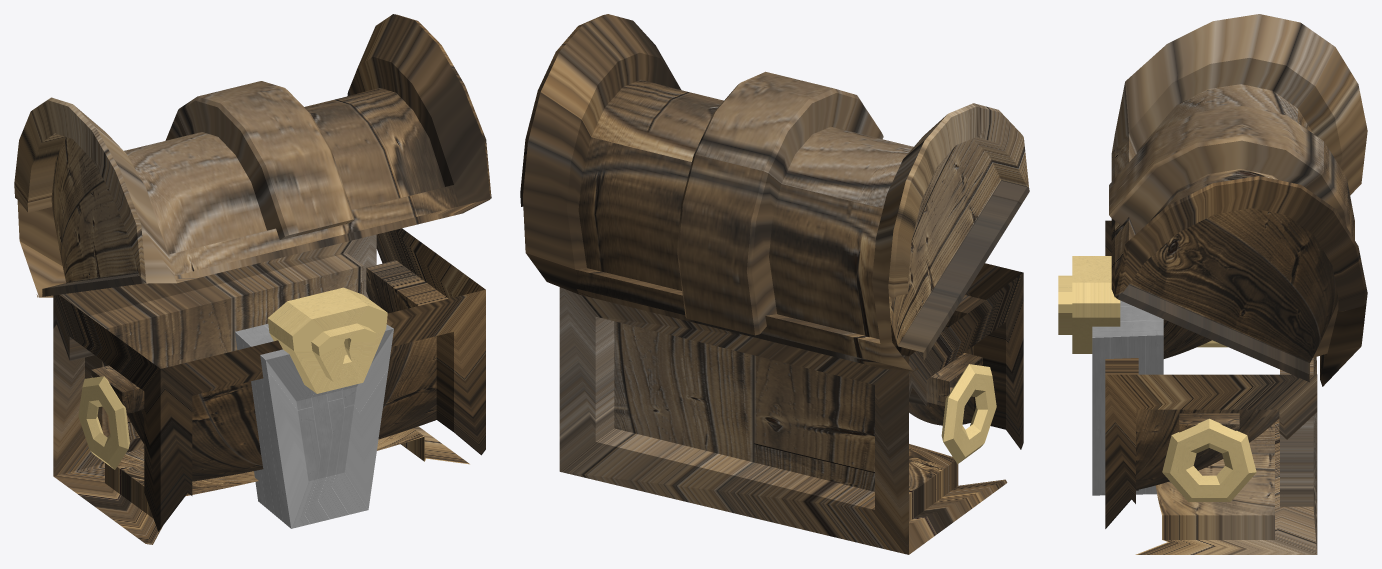
File: pirates chest.fbx
The picture shows the model from 3 angles, left to right: view 1: azimuth 30°, elevation 25°; view 2: azimuth 150°, elevation 25°; view 3: azimuth 270°, elevation 25°; orthographic projection. The views are drawn at different scales.
Parts seen in each view (by area): view 1: pCylinder1, pCube1, pCube4, pCube5, pTorus3, pCube3; view 2: pCylinder1, pCube1, pTorus3, pCube3; view 3: pCylinder1, pCube1, pCube4, pTorus4, pCube5, pCube2.
Part boxes in pixels (x1,y1,x2,y2): pCylinder1: (14,14,491,297); pCube1: (53,228,485,544); pCube4: (235,324,393,528); pCube5: (267,287,387,393); pTorus3: (78,376,129,469); pCube3: (91,365,144,413); pCylinder1: (520,14,1029,371); pCube1: (559,263,1023,554); pTorus3: (941,364,996,464); pCube3: (926,353,982,406); pCylinder1: (1109,14,1367,386); pCube1: (1105,220,1317,554); pCube4: (1092,300,1163,495); pTorus4: (1162,418,1256,501); pCube5: (1058,256,1120,353); pCube2: (1179,413,1239,432).
Bounding box in the file's own units: 14.97 × 16.15 × 11.82.
